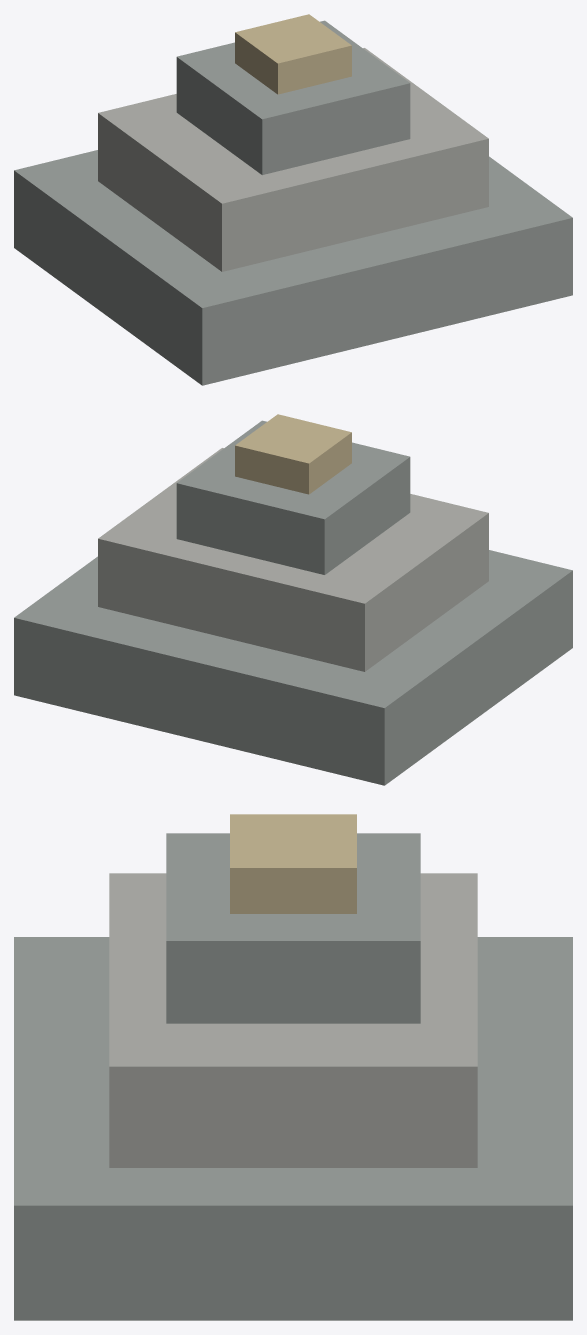
The model's file is altar_pedra.glb.
3 renders of one model, top to bottom at view 1: azimuth 30°, elevation 25°; view 2: azimuth 150°, elevation 25°; view 3: azimuth 270°, elevation 25°, orthographic. The views are drawn at different scales.
Parts seen in each view (by area): view 1: part_000, part_001, part_002, part_003; view 2: part_000, part_001, part_002, part_003; view 3: part_000, part_001, part_002, part_003.
Boxes of the visible parts, left/top/right/bottom form: part_000: left=14, top=150, right=572, bottom=385; part_001: left=98, top=48, right=488, bottom=271; part_002: left=176, top=20, right=410, bottom=174; part_003: left=235, top=14, right=351, bottom=94; part_000: left=14, top=550, right=572, bottom=785; part_001: left=98, top=448, right=488, bottom=671; part_002: left=176, top=420, right=410, bottom=574; part_003: left=235, top=414, right=351, bottom=494; part_000: left=14, top=937, right=572, bottom=1320; part_001: left=109, top=873, right=477, bottom=1167; part_002: left=166, top=833, right=420, bottom=1023; part_003: left=230, top=814, right=356, bottom=913.
Size of the model in its own units: 2.5 by 1.5 by 2.2.
